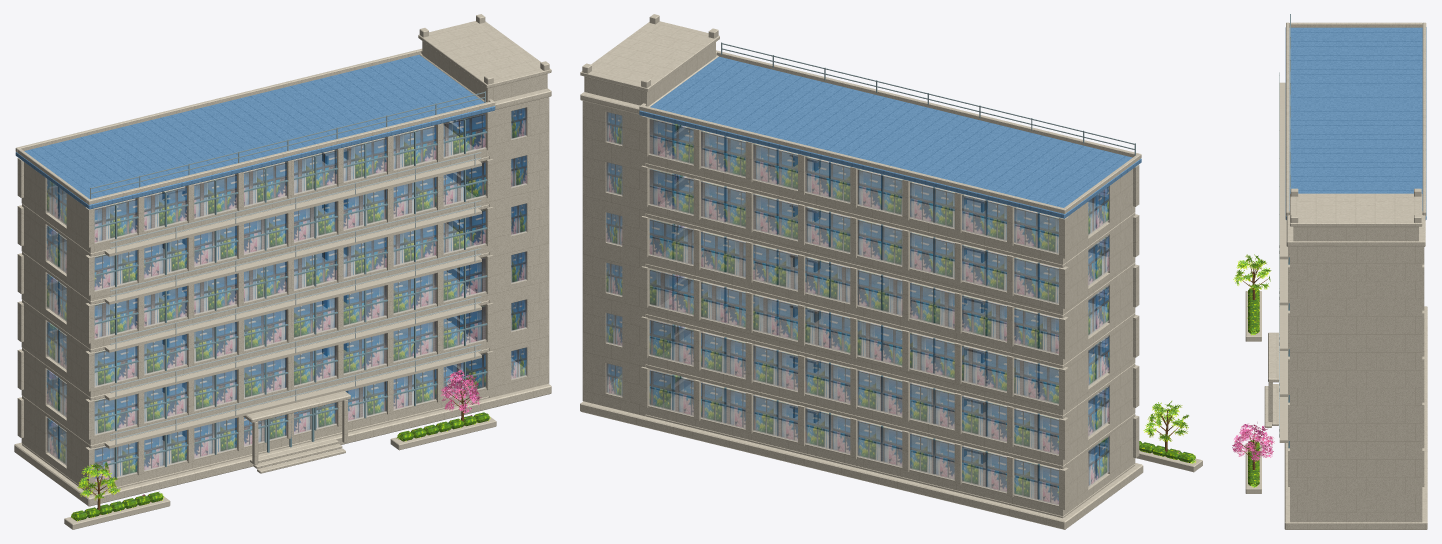
File: B02_science_v2.glb
3 renders of one model, left to right at view 1: azimuth 30°, elevation 25°; view 2: azimuth 150°, elevation 25°; view 3: azimuth 270°, elevation 25°, orthographic. The views are drawn at different scales.
Parts seen in each view (by area): view 1: GAME_V2_Pixel_limestone, GAME_V2_Glass_reflection, GAME_roof, GAME_V2_Planter_stone, GAME_蓝灰窗框, GAME_V2_Silver_rail, GAME_V2_Dense_hedge, GAME_V2_Tower_frame, GAME_V2_Blossom_cutout, GAME_V2_Leaf_cutout; view 2: GAME_V2_Pixel_limestone, GAME_V2_Glass_reflection, GAME_roof, GAME_蓝灰窗框, GAME_V2_Tower_frame, GAME_V2_Leaf_cutout; view 3: GAME_V2_Pixel_limestone, GAME_roof, GAME_V2_Planter_stone, GAME_V2_Blossom_cutout, GAME_V2_Dense_hedge, GAME_V2_Leaf_cutout, GAME_V2_Silver_rail, GAME_V2_Bark.
Boxes of the visible parts, x1,y1,x2,y2 form: GAME_V2_Pixel_limestone: (14, 14, 551, 506); GAME_V2_Glass_reflection: (46, 107, 526, 482); GAME_roof: (15, 55, 495, 209); GAME_V2_Planter_stone: (64, 160, 496, 529); GAME_蓝灰窗框: (48, 119, 487, 478); GAME_V2_Silver_rail: (110, 152, 481, 445); GAME_V2_Dense_hedge: (71, 412, 489, 520); GAME_V2_Tower_frame: (90, 91, 485, 199); GAME_V2_Blossom_cutout: (142, 369, 481, 502); GAME_V2_Leaf_cutout: (71, 413, 490, 521); GAME_V2_Pixel_limestone: (580, 14, 1143, 529); GAME_V2_Glass_reflection: (606, 112, 1109, 505); GAME_roof: (639, 56, 1141, 218); GAME_蓝灰窗框: (650, 123, 1097, 499); GAME_V2_Tower_frame: (721, 42, 1135, 155); GAME_V2_Leaf_cutout: (1143, 401, 1195, 463); GAME_V2_Pixel_limestone: (1264, 22, 1427, 529); GAME_roof: (1285, 27, 1426, 219); GAME_V2_Planter_stone: (1245, 82, 1287, 493); GAME_V2_Blossom_cutout: (1232, 319, 1274, 476); GAME_V2_Dense_hedge: (1248, 288, 1259, 485); GAME_V2_Leaf_cutout: (1233, 254, 1271, 487); GAME_V2_Silver_rail: (1279, 72, 1279, 437); GAME_V2_Bark: (1240, 260, 1268, 469).
Size of the model in its own units: 25.2 by 15.7 by 8.93.
Materials: 11 (8 with a texture image).
